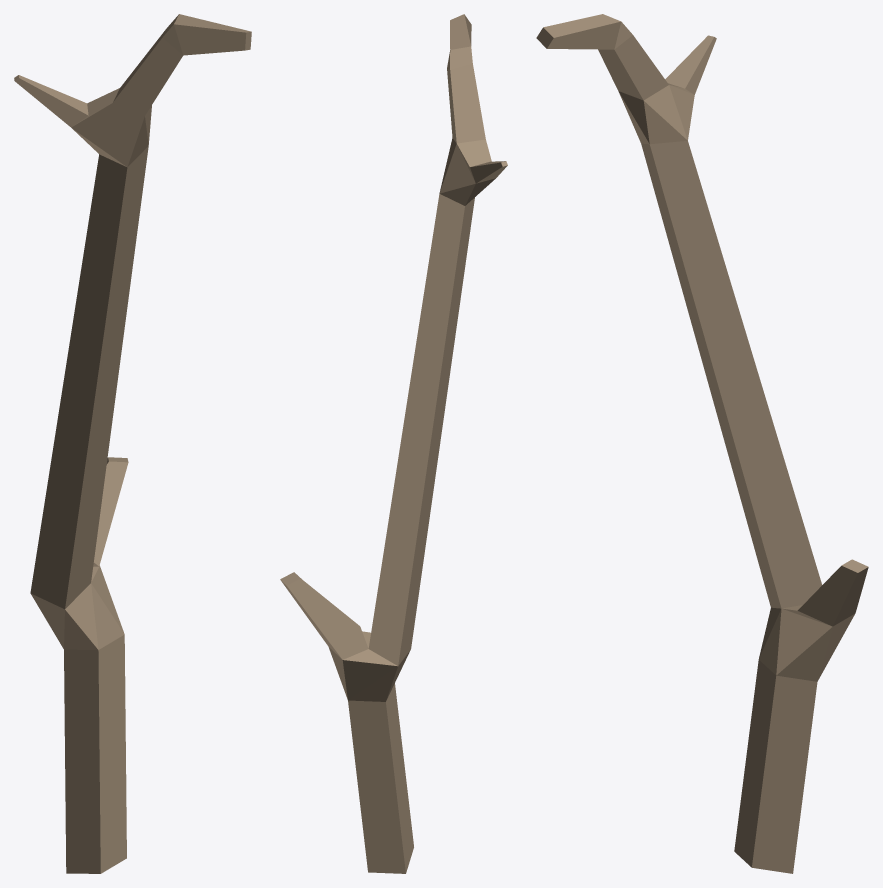
File: stick_02_olive.fbx
3 views of the same model, side by side, from view 1: azimuth 30°, elevation 25°; view 2: azimuth 150°, elevation 25°; view 3: azimuth 270°, elevation 25° (orthographic). The views are drawn at different scales.
Visible parts, largest first — view 1: Cube; view 2: Cube; view 3: Cube.
Boxes of the visible parts, bbox=[...] form: Cube: bbox=[14, 14, 251, 873]; Cube: bbox=[280, 14, 507, 873]; Cube: bbox=[536, 14, 868, 873].
Size of the model in its own units: 14.26 by 65.16 by 22.95.
